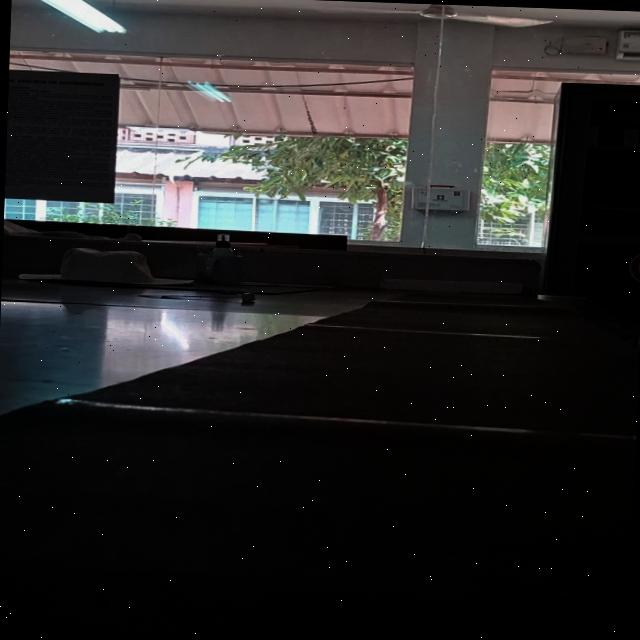Speed40: (622, 242, 640, 291)
